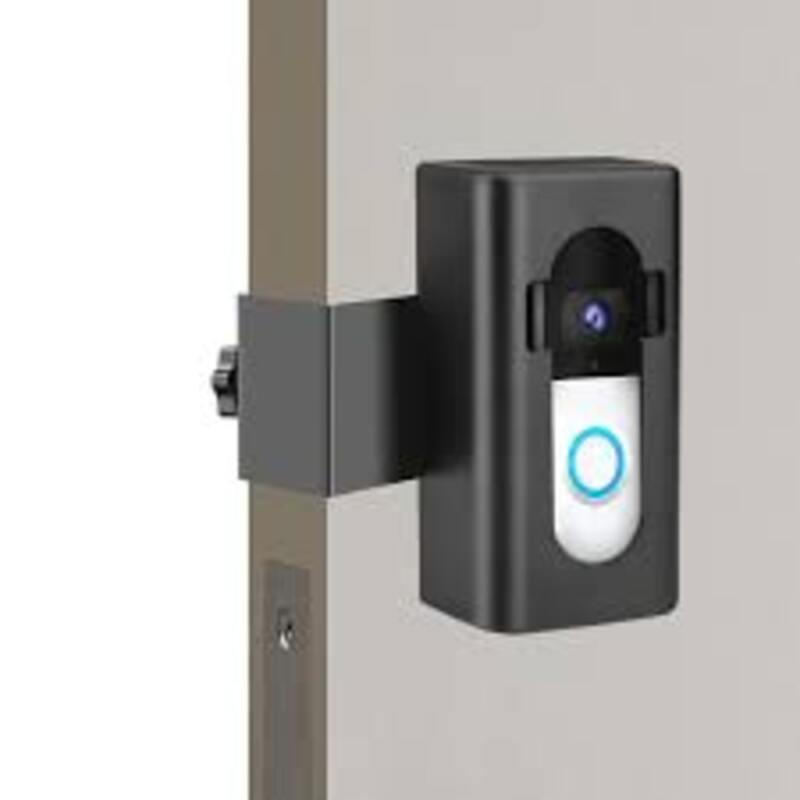doorbell: (521, 206, 660, 581)
